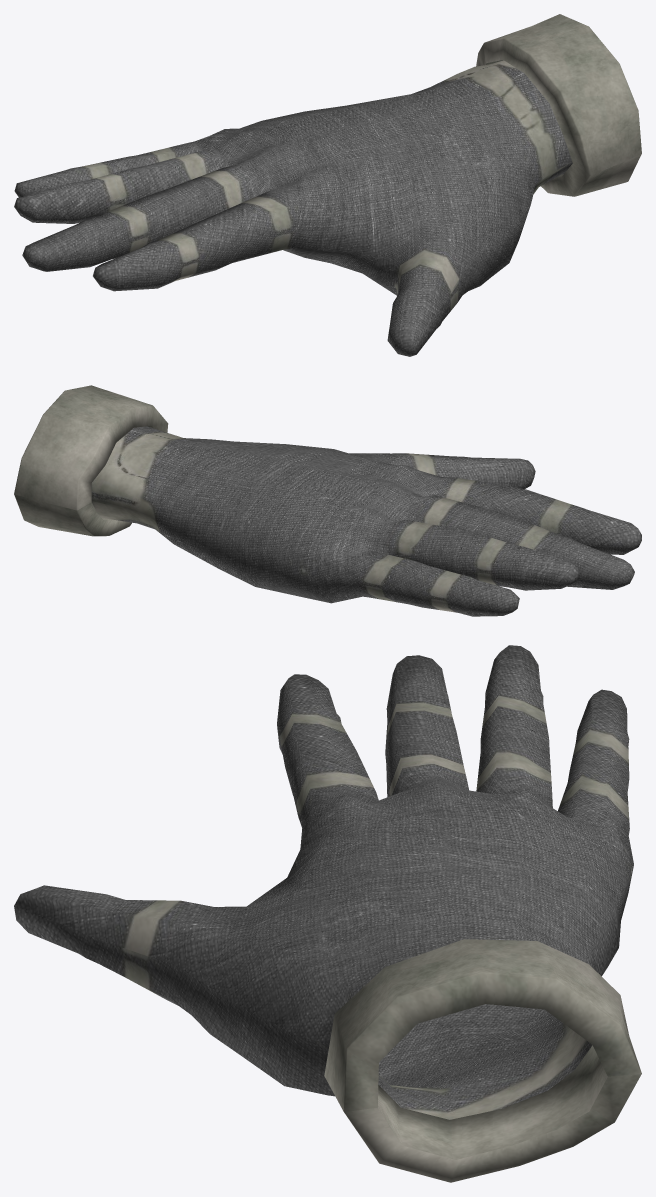
File: linen_gloves.glb
3 views of the same model, one above another, from view 1: azimuth 30°, elevation 25°; view 2: azimuth 150°, elevation 25°; view 3: azimuth 270°, elevation 25° (orthographic). The views are drawn at different scales.
Parts seen in each view (by area): view 1: leather_gloves__export; view 2: leather_gloves__export; view 3: leather_gloves__export.
Boxes of the visible parts, x1,y1,x2,y2 form: leather_gloves__export: [14, 14, 641, 356]; leather_gloves__export: [14, 385, 641, 616]; leather_gloves__export: [14, 645, 641, 1182].
Size of the model in its own units: 0.1914 by 0.0507 by 0.1208.
Materials: 1 (1 with a texture image).
